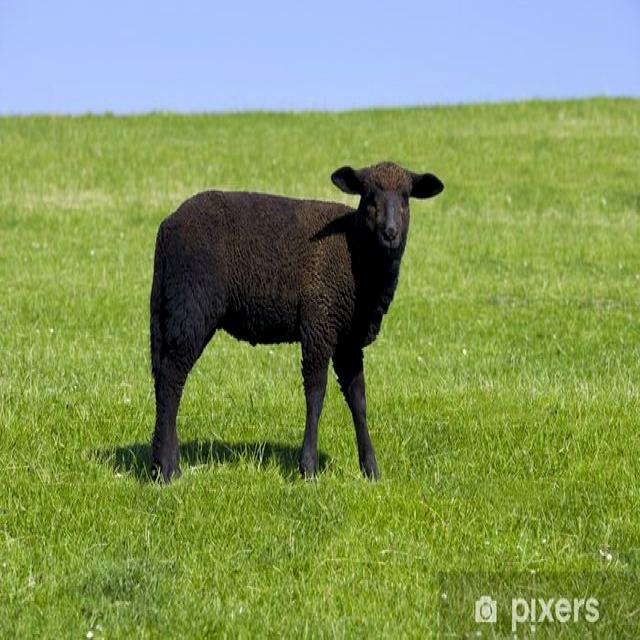sheep: (149, 162, 446, 477)
